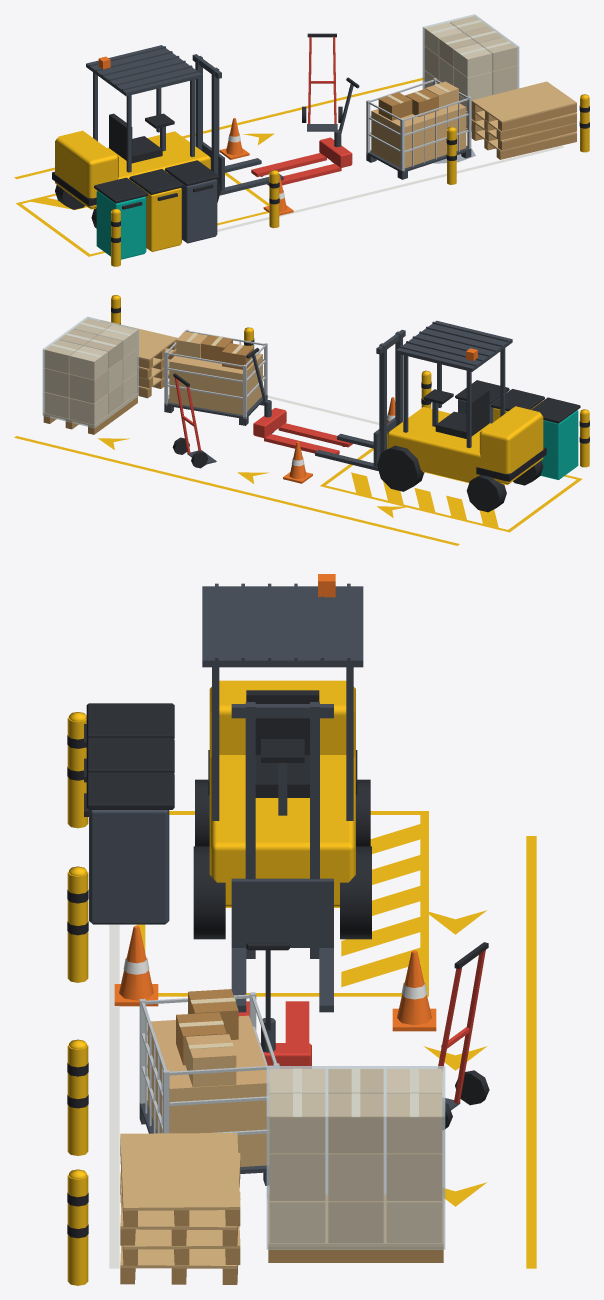
Rendered from einrichtung_ladehof.glb.
3 views of the same model, one above another, from view 1: azimuth 30°, elevation 25°; view 2: azimuth 150°, elevation 25°; view 3: azimuth 270°, elevation 25° (orthographic). The views are drawn at different scales.
Visible parts, largest first — view 1: einrichtung_ladehof; view 2: einrichtung_ladehof; view 3: einrichtung_ladehof.
Boxes of the visible parts, x1=… form: einrichtung_ladehof: x1=14, y1=14, x2=589, y2=266; einrichtung_ladehof: x1=14, y1=295, x2=589, y2=545; einrichtung_ladehof: x1=67, y1=574, x2=536, y2=1285.
Bounding box in the file's own units: 7.67 × 2.23 × 3.21.
